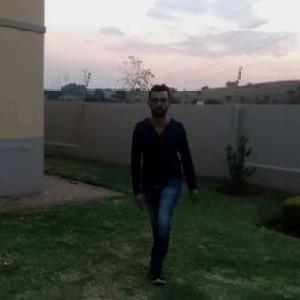follow: (130, 80, 188, 288)
